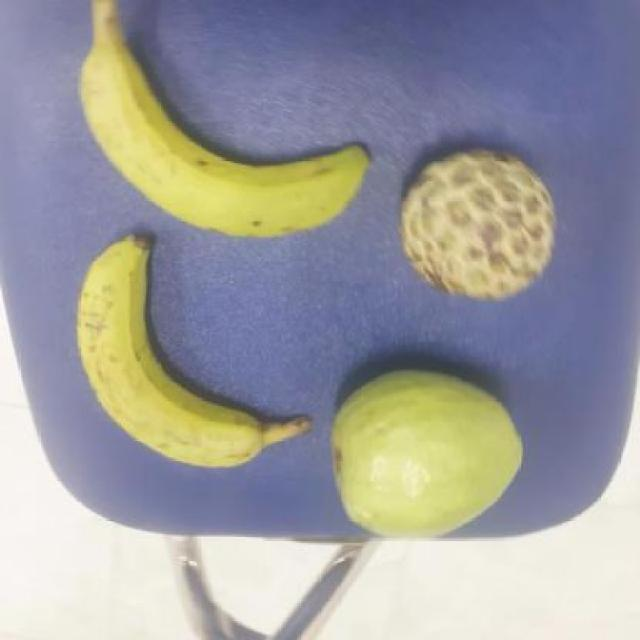banana: (98, 24, 384, 238), (82, 233, 316, 464)
guava: (332, 366, 526, 542)
sugar apple: (401, 148, 564, 300)
